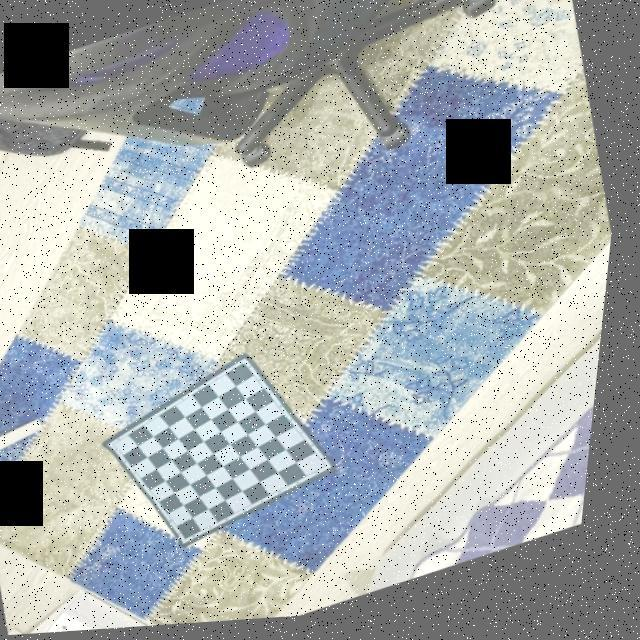chess-table-corners: (188, 534, 206, 548), (116, 438, 130, 452), (244, 359, 258, 372), (328, 464, 342, 476)
